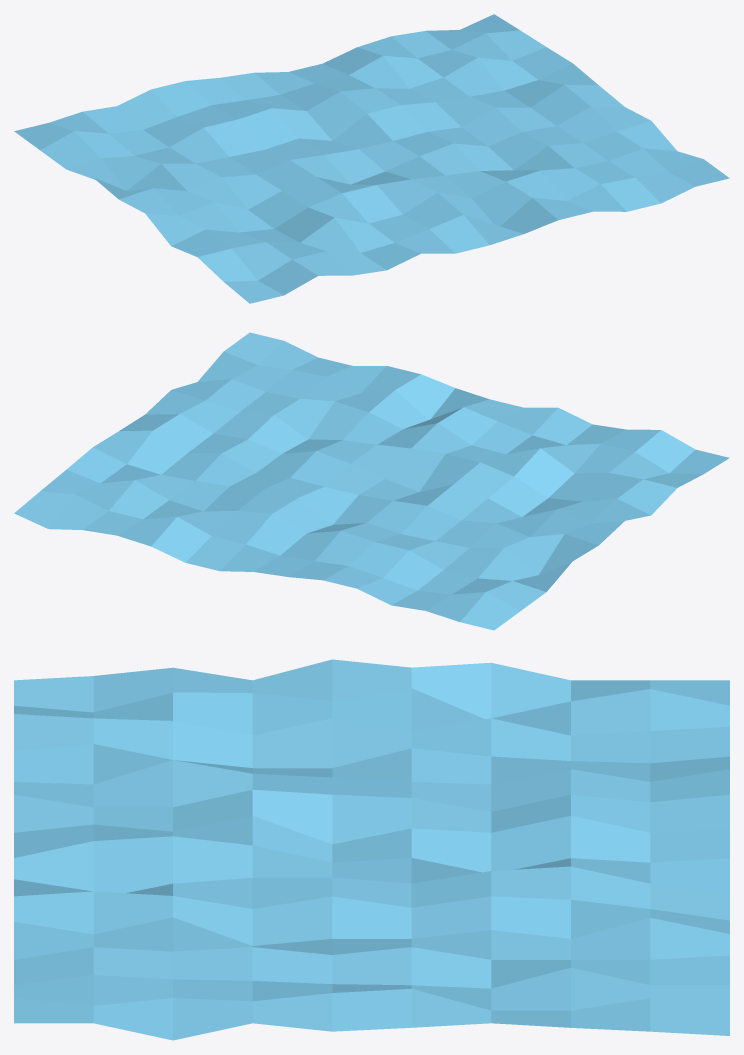
Rendered from AGUA.fbx.
3 renders of one model, top to bottom at view 1: azimuth 30°, elevation 25°; view 2: azimuth 150°, elevation 25°; view 3: azimuth 270°, elevation 25°, orthographic. The views are drawn at different scales.
Visible parts, largest first — view 1: Plane; view 2: Plane; view 3: Plane.
Part boxes in pixels (box(x1,y1,x2,y2)): Plane: box(14, 14, 729, 303); Plane: box(14, 332, 729, 630); Plane: box(14, 659, 729, 1040).
Size of the model in its own units: 3058 by 153 by 2601.
